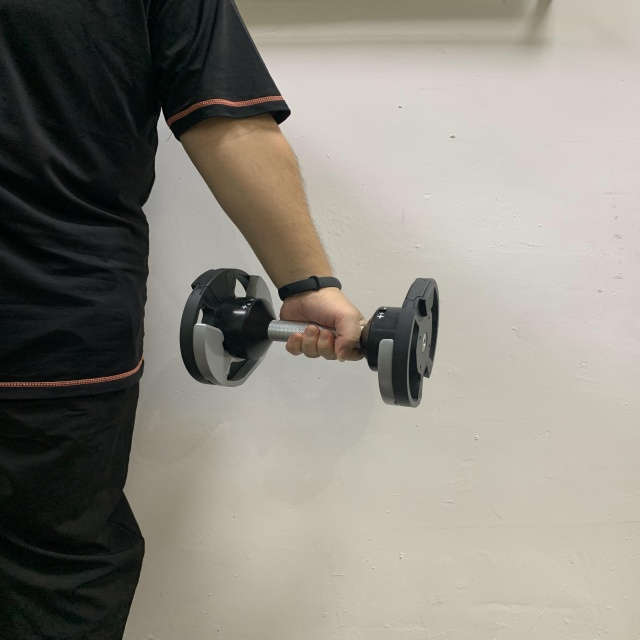02-4kg: (177, 264, 445, 411)
